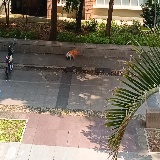fire: (68, 49, 77, 56)
